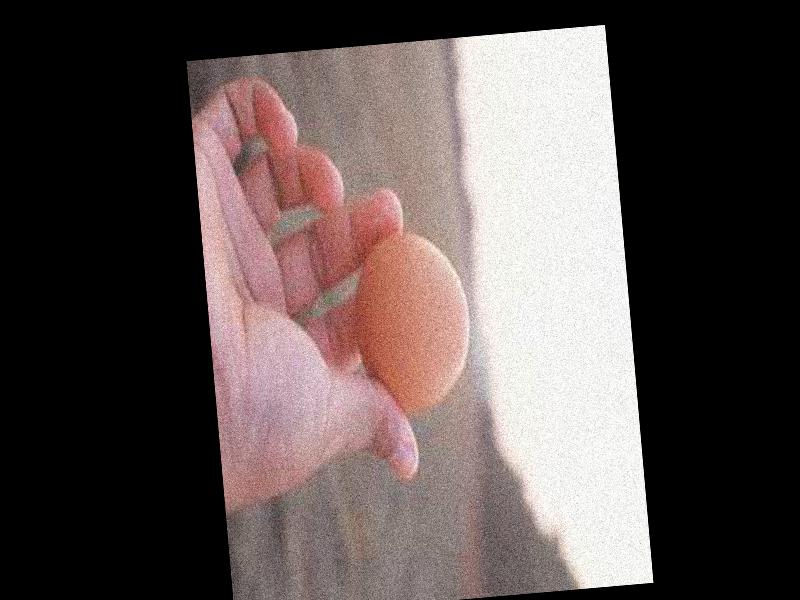Eggs: (350, 227, 476, 413)
